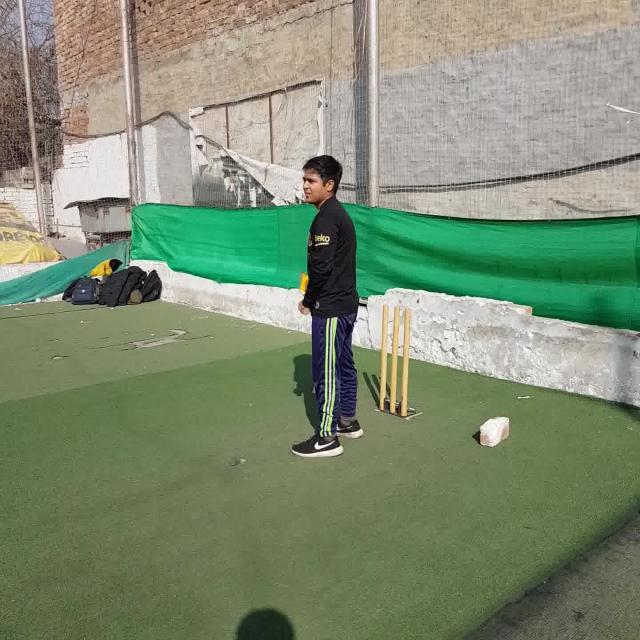ball: (36, 297, 42, 303)
